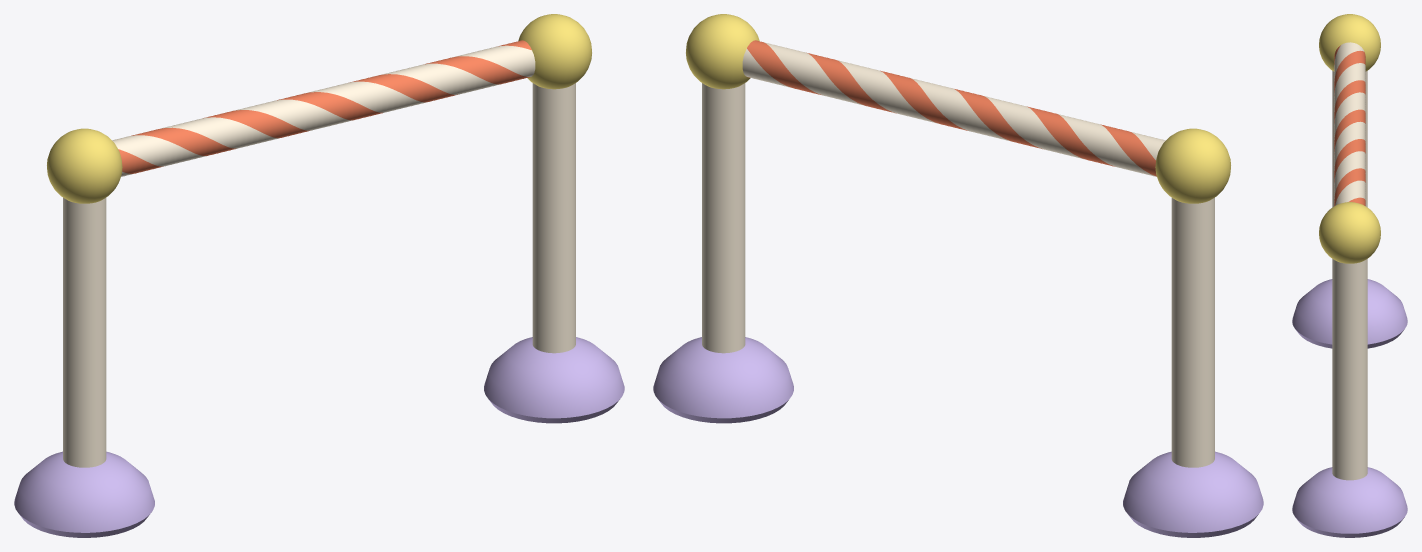
File: spinner_frame.glb
3 views of the same model, side by side, from view 1: azimuth 30°, elevation 25°; view 2: azimuth 150°, elevation 25°; view 3: azimuth 270°, elevation 25° (orthographic). The views are drawn at different scales.
Parts seen in each view (by area): view 1: spinner_frame; view 2: spinner_frame; view 3: spinner_frame.
Boxes of the visible parts, x1,y1,x2,y2 form: spinner_frame: (14, 14, 624, 537); spinner_frame: (653, 14, 1263, 537); spinner_frame: (1292, 14, 1407, 537).
Size of the model in its own units: 2.52 by 1.54 by 0.52.
